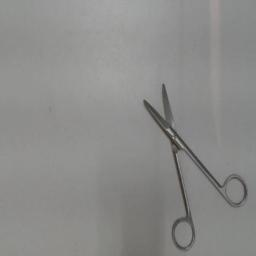Curved Mayo Scissors: (138, 79, 250, 253)
